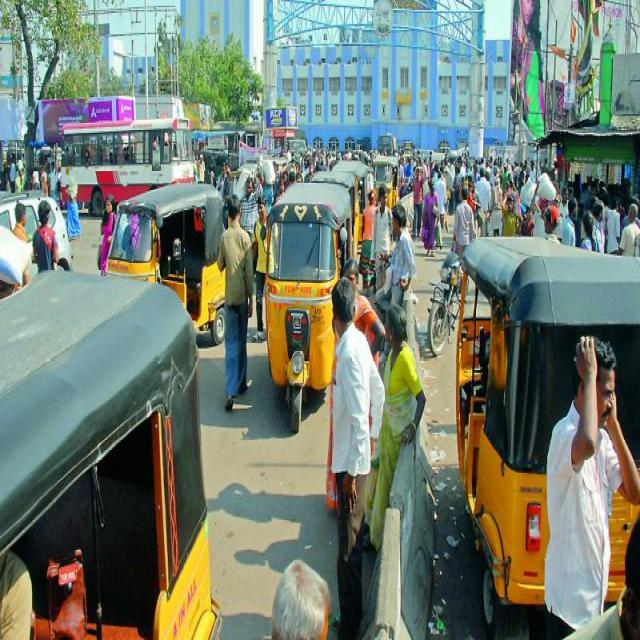autorikshaw: (266, 182, 356, 426), (104, 179, 229, 344), (371, 152, 399, 216)
bus: (58, 117, 194, 215)
motorcycle: (426, 246, 460, 355)
